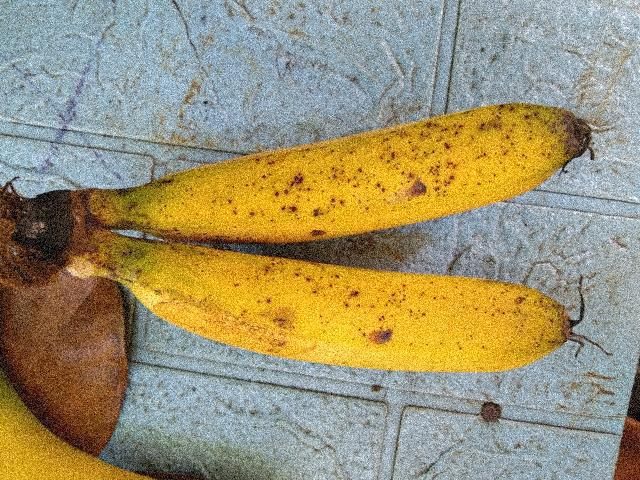ripe: (108, 82, 612, 247), (152, 229, 597, 397)
